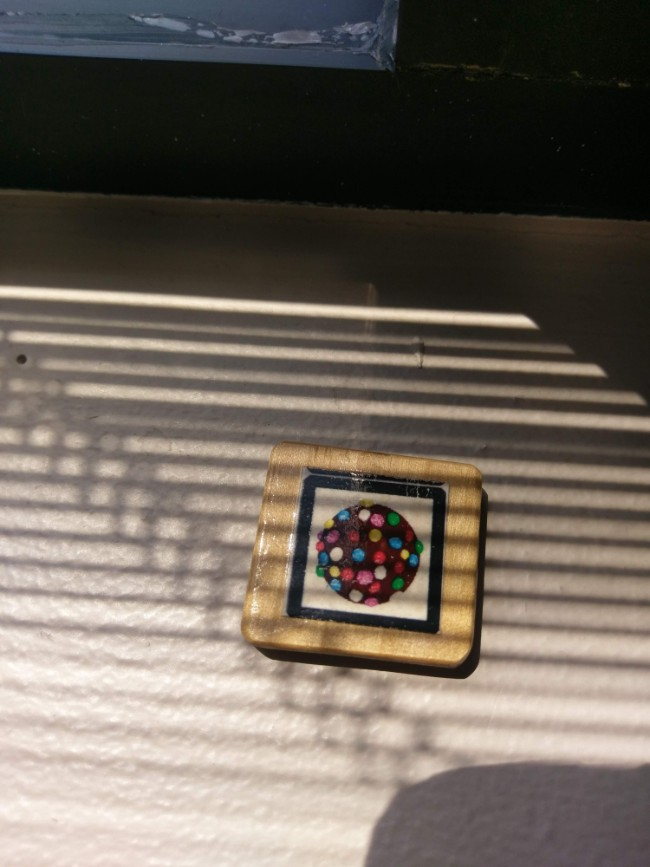cookie: (261, 454, 485, 651)
